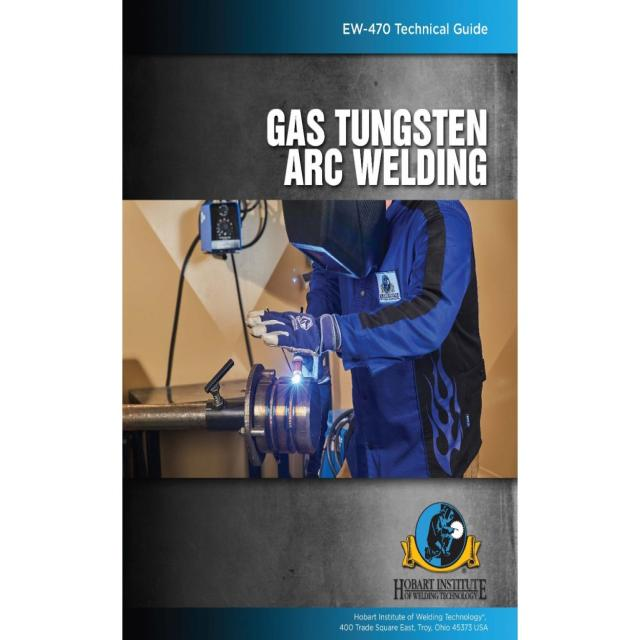welding: (288, 370, 303, 390)
